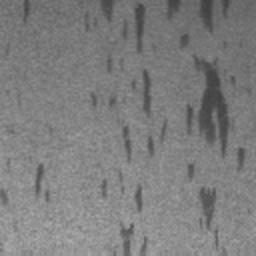Red iron sheet: (83, 0, 246, 256), (35, 164, 51, 202), (22, 0, 31, 26), (0, 188, 9, 205)
